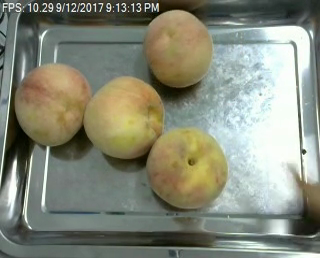Peach: (146, 126, 228, 208), (82, 75, 162, 159), (13, 62, 90, 146), (143, 9, 213, 87)
